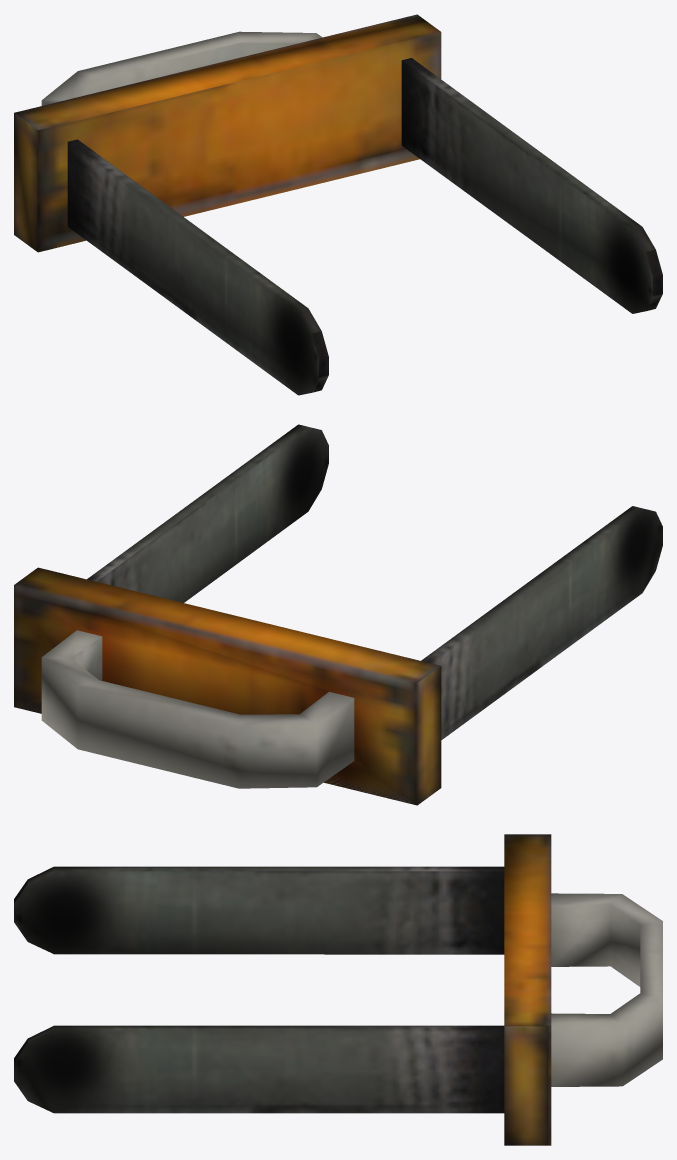
Rendered from leverhandle.fbx.
3 renders of one model, top to bottom at view 1: azimuth 30°, elevation 25°; view 2: azimuth 150°, elevation 25°; view 3: azimuth 270°, elevation 25°, orthographic. The views are drawn at different scales.
Parts seen in each view (by area): view 1: Scene_Root; view 2: Scene_Root; view 3: Scene_Root.
Part boxes in pixels (box(x1,y1,x2,y2)): Scene_Root: box(14, 14, 662, 395); Scene_Root: box(14, 424, 662, 805); Scene_Root: box(14, 834, 662, 1145).
Bounding box in the file's own units: 1.79 × 0.5174 × 2.55.
